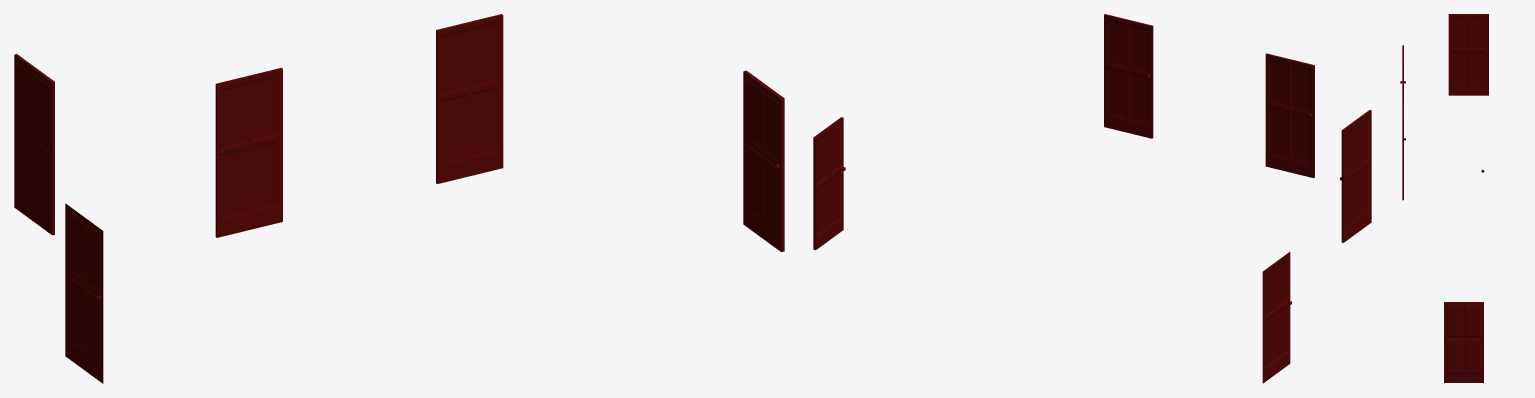
Rendered from Puertas_Casa.fbx.
The picture shows the model from 3 angles, left to right: view 1: azimuth 30°, elevation 25°; view 2: azimuth 150°, elevation 25°; view 3: azimuth 270°, elevation 25°; orthographic projection. The views are drawn at different scales.
Parts seen in each view (by area): view 1: Puerta_Baño, Puerta_Pieza_2, Puerta_Living, Puerta_Pieza_1, Puerta_Cocina; view 2: Puerta_Baño, Puerta_Pieza_2, Puerta_Living, Puerta_Pieza_1, Puerta_Cocina; view 3: Puerta_Pieza_1, Puerta_Living, Puerta_Pieza_2, Puerta_Baño.
Part boxes in pixels (x1,y1,x2,y2): Puerta_Baño: [215, 67, 282, 237]; Puerta_Pieza_2: [436, 14, 503, 183]; Puerta_Living: [743, 70, 784, 251]; Puerta_Pieza_1: [14, 54, 54, 235]; Puerta_Cocina: [65, 203, 103, 383]; Puerta_Baño: [1265, 53, 1314, 178]; Puerta_Pieza_2: [1104, 14, 1153, 138]; Puerta_Living: [813, 117, 845, 250]; Puerta_Pieza_1: [1340, 110, 1371, 242]; Puerta_Cocina: [1262, 252, 1291, 383]; Puerta_Pieza_1: [1448, 14, 1488, 95]; Puerta_Living: [1444, 302, 1483, 382]; Puerta_Pieza_2: [1402, 102, 1405, 200]; Puerta_Baño: [1400, 45, 1405, 102].
Size of the model in its own units: 995 by 448 by 269.
